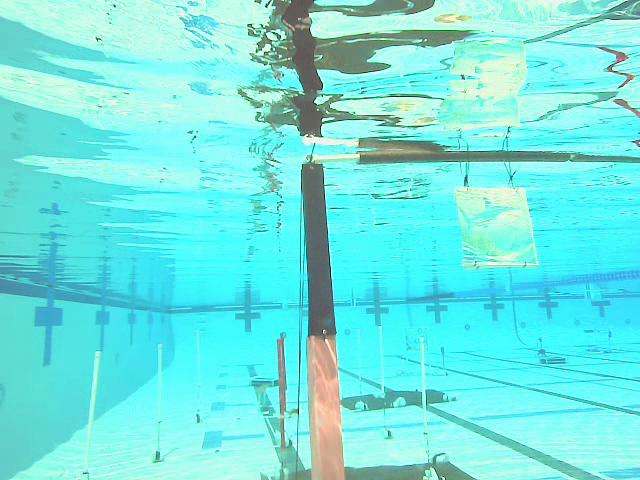black_poster: (274, 338, 291, 451)
left_gate_poster: (300, 164, 355, 480)
shark: (458, 188, 536, 263)
white_poster: (415, 340, 440, 478), (375, 333, 398, 438), (152, 345, 163, 459), (194, 330, 202, 427)
